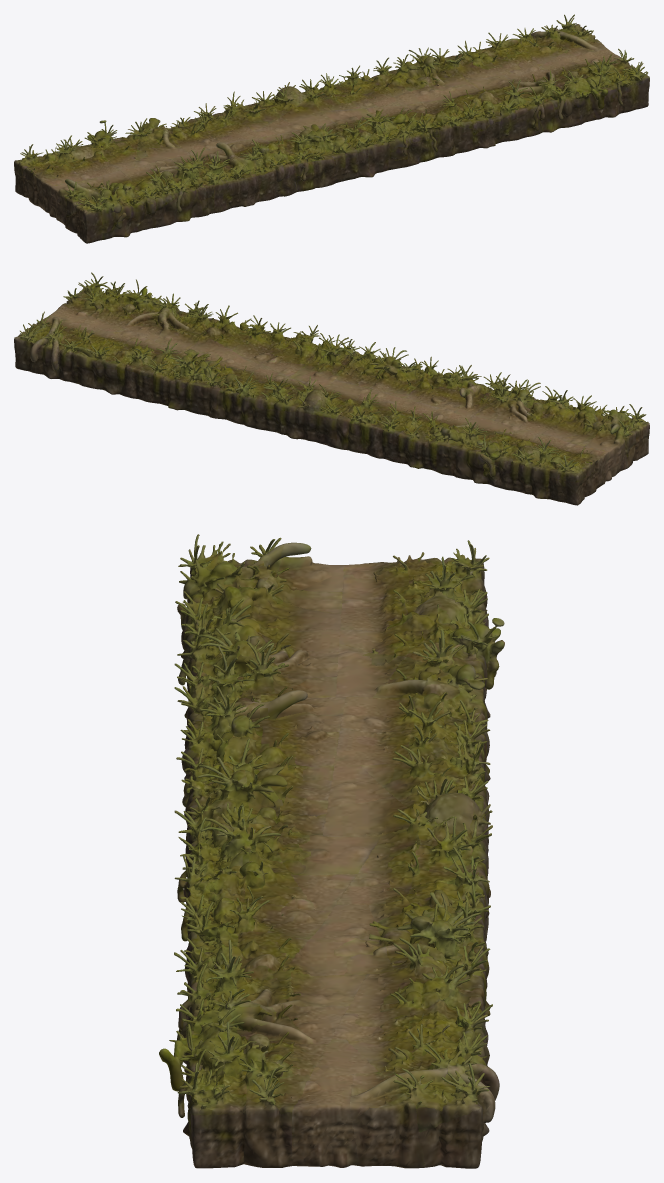
File: Meshy_AI_road_woodland_trail_0823031917_image-to-3d-texture.glb
3 renders of one model, top to bottom at view 1: azimuth 30°, elevation 25°; view 2: azimuth 150°, elevation 25°; view 3: azimuth 270°, elevation 25°, orthographic. The views are drawn at different scales.
Parts seen in each view (by area): view 1: mesh_node; view 2: mesh_node; view 3: mesh_node.
Part boxes in pixels (x1,y1,x2,y2): mesh_node: (14,14,649,243); mesh_node: (14,272,649,505); mesh_node: (159,534,504,1168).
Size of the model in its own units: 1.91 by 0.1667 by 0.5025.
1 material, 1 textured.
